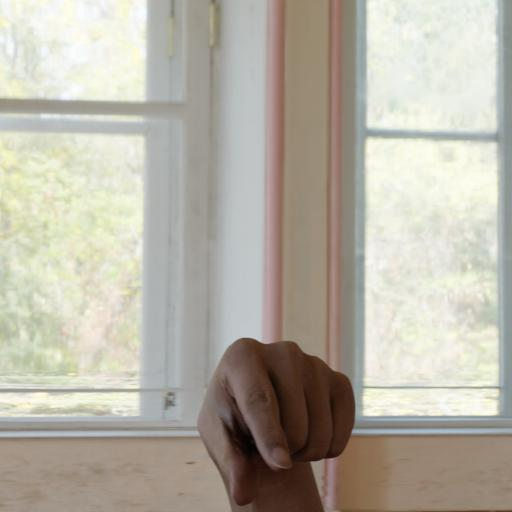Q: (178, 324, 360, 512)
